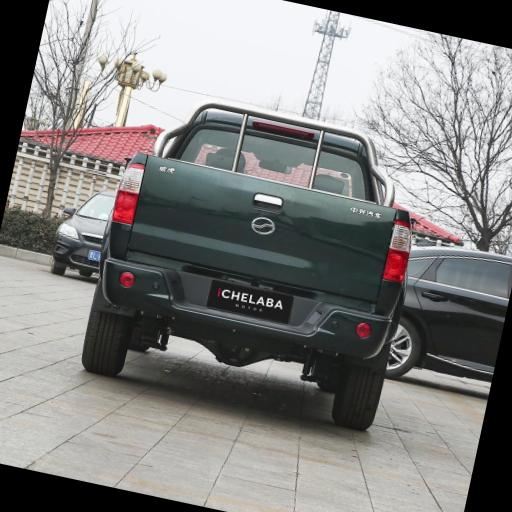Sedan-sDLz: (376, 232, 512, 398), (49, 182, 114, 286)
pickup: (73, 78, 440, 438)
